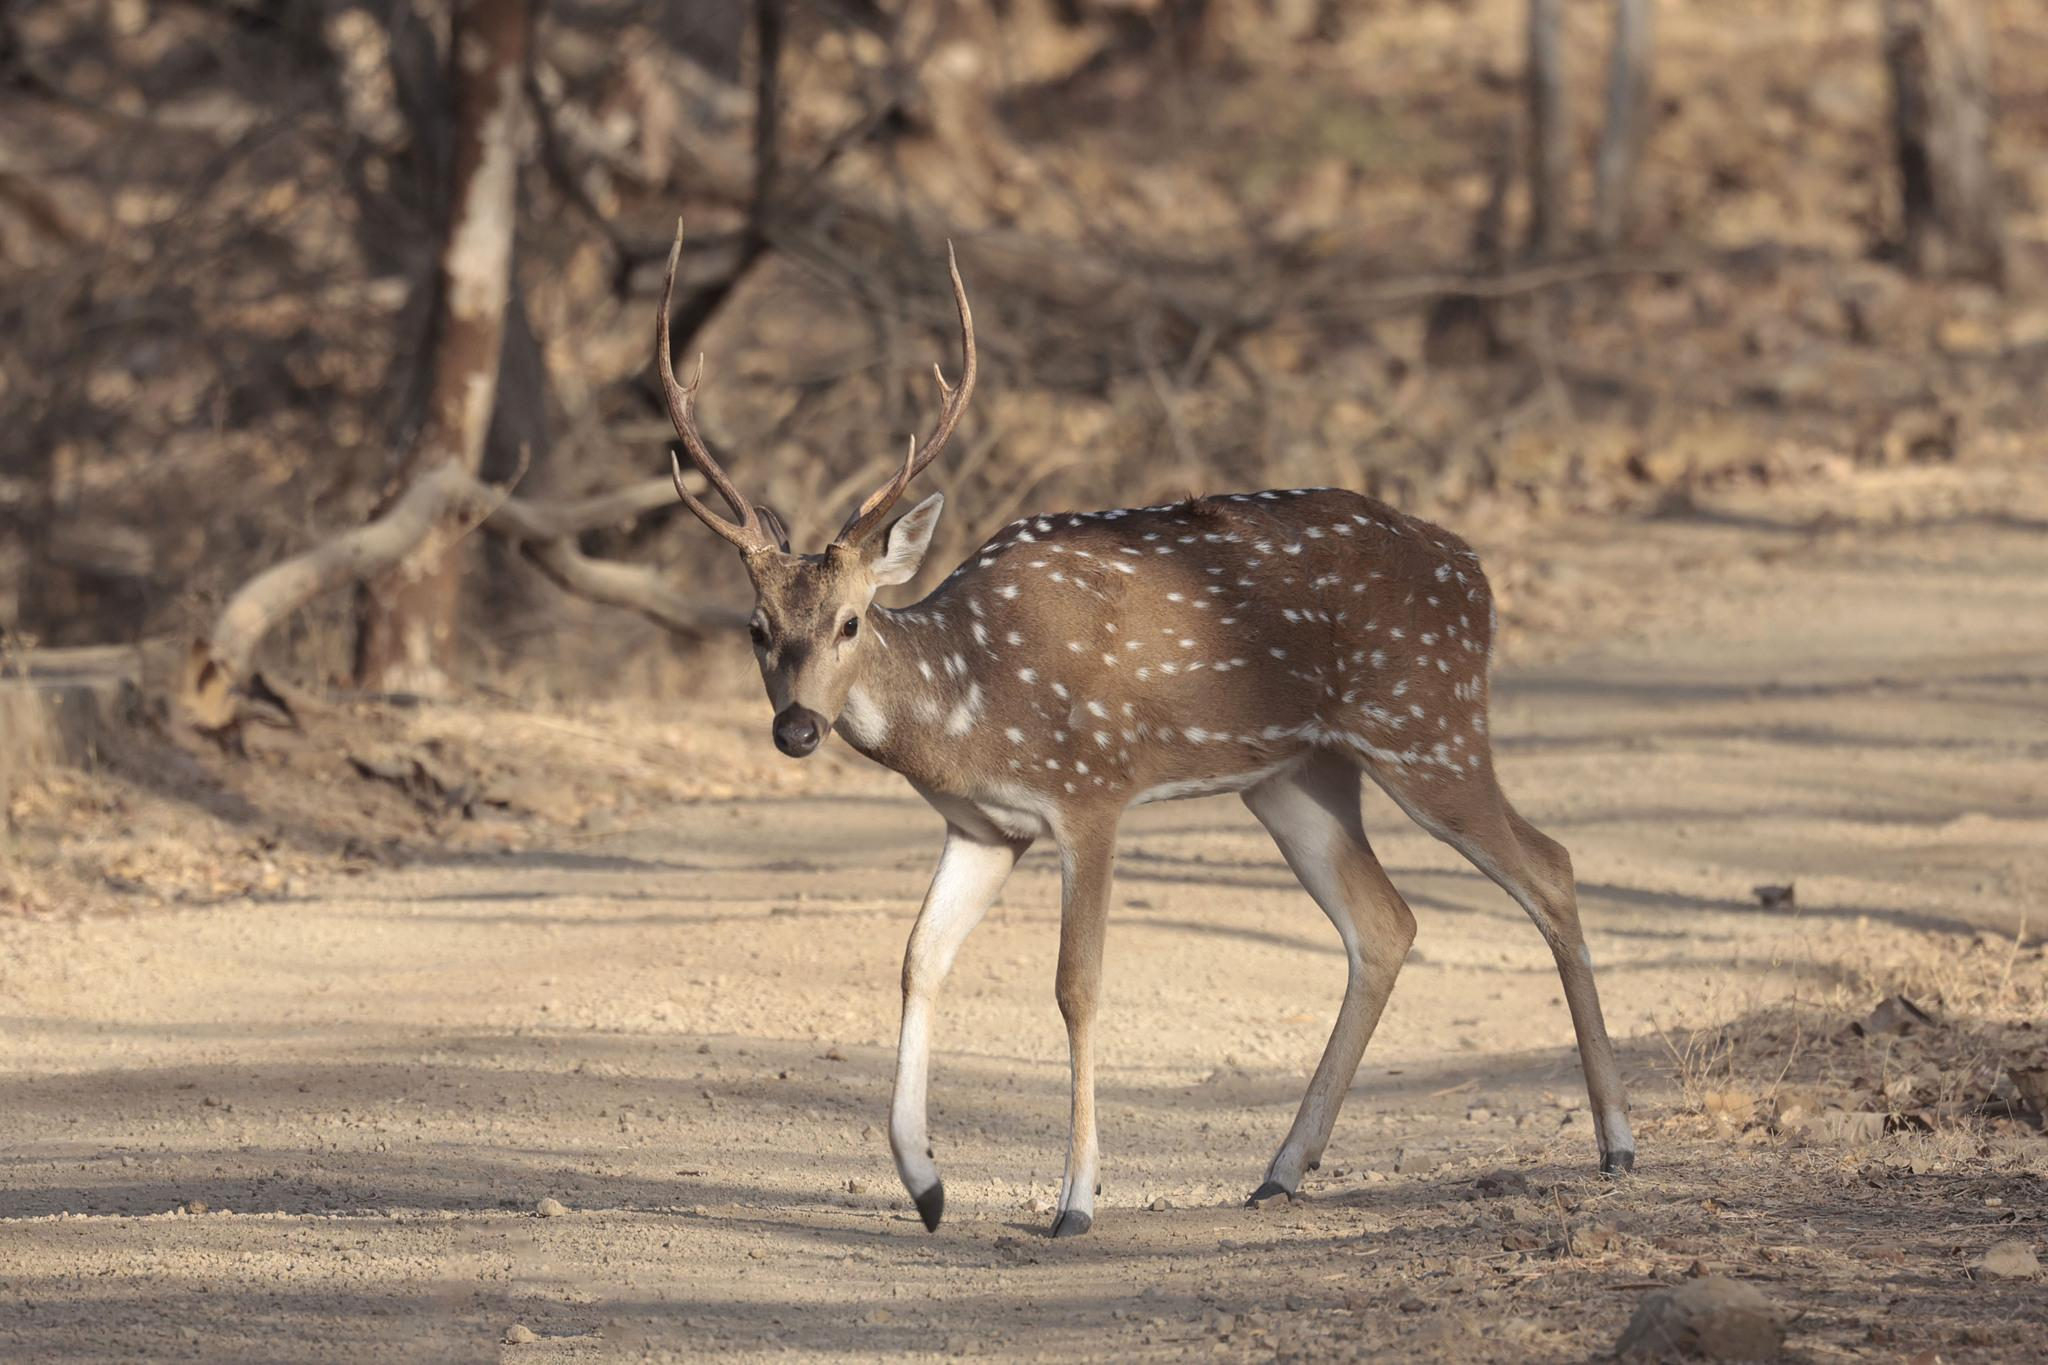Deer: (656, 230, 1632, 1234)
